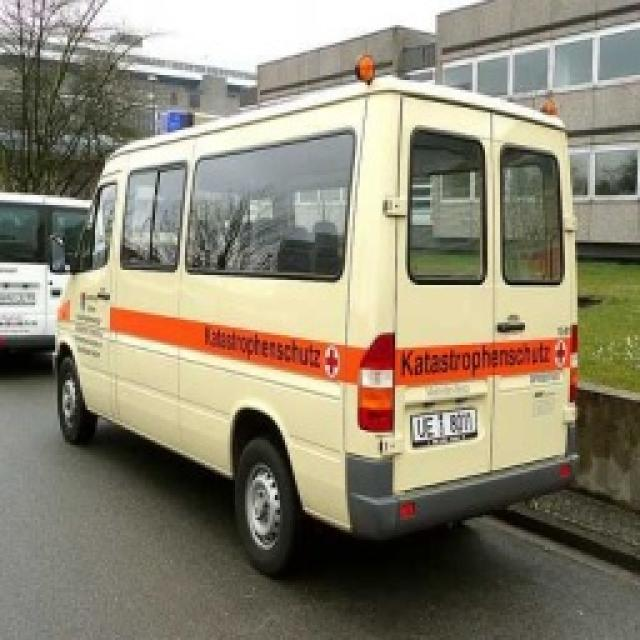emergency-vehicle: (42, 84, 588, 584)
